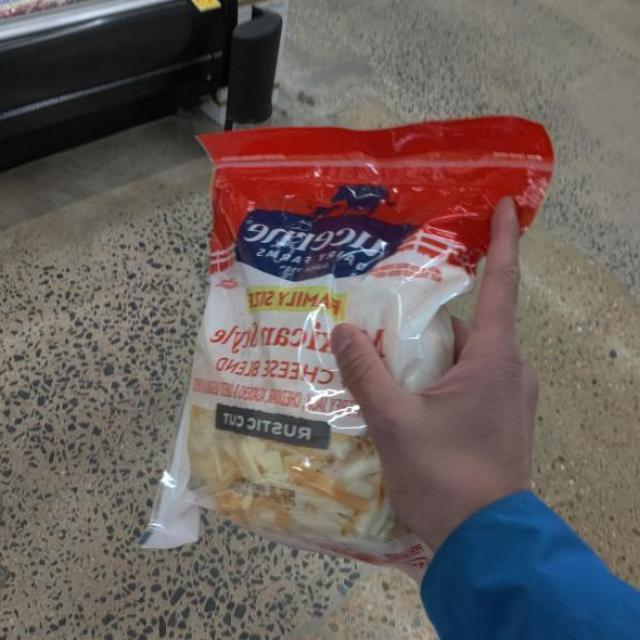Cheese: (114, 100, 558, 567)
